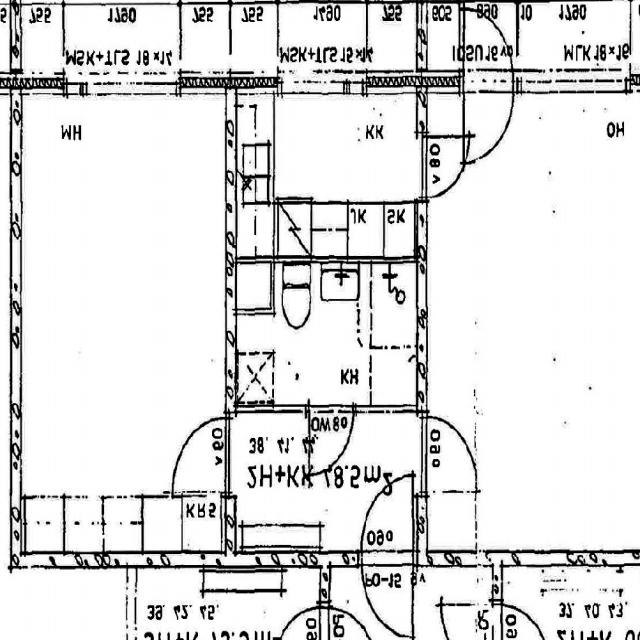door: (417, 417, 482, 495), (464, 0, 514, 94), (464, 72, 514, 166), (173, 418, 236, 491), (362, 551, 413, 638), (362, 478, 413, 565), (417, 135, 470, 196), (310, 404, 354, 475)
